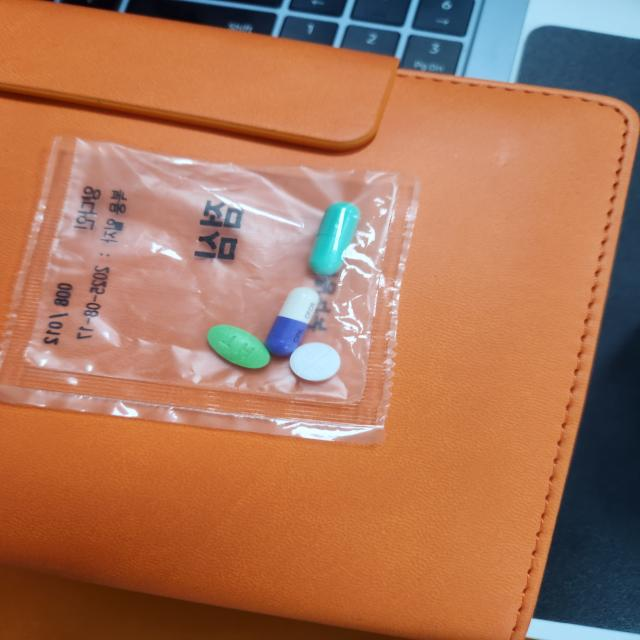러키펜정: (288, 342, 342, 385)
씨엠지세파클러캡슐: (265, 285, 321, 360)
에르도캡슐: (307, 202, 363, 287)
휴티렌정: (206, 325, 273, 373)
